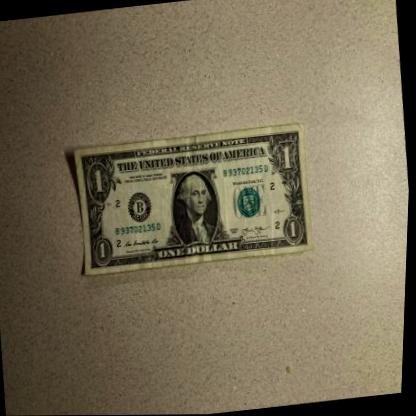one-front: (69, 125, 320, 277)
